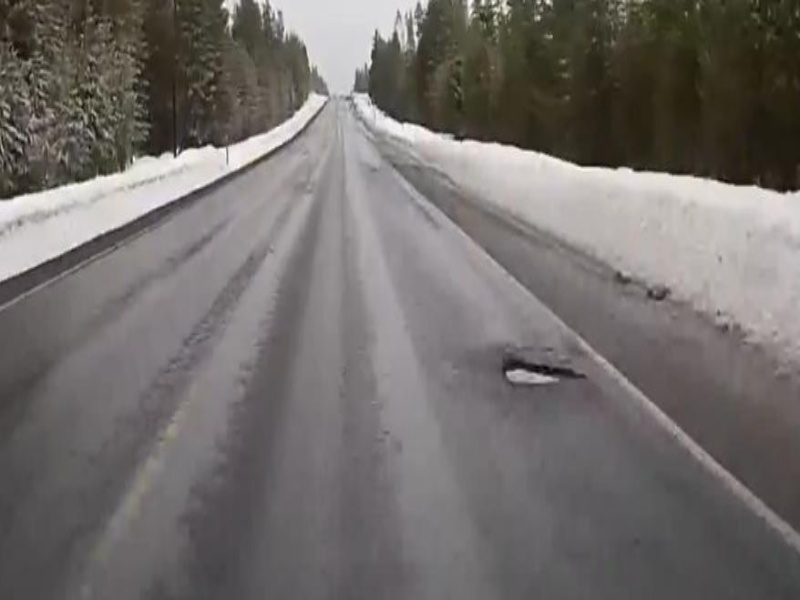pothole: (499, 357, 589, 395)
